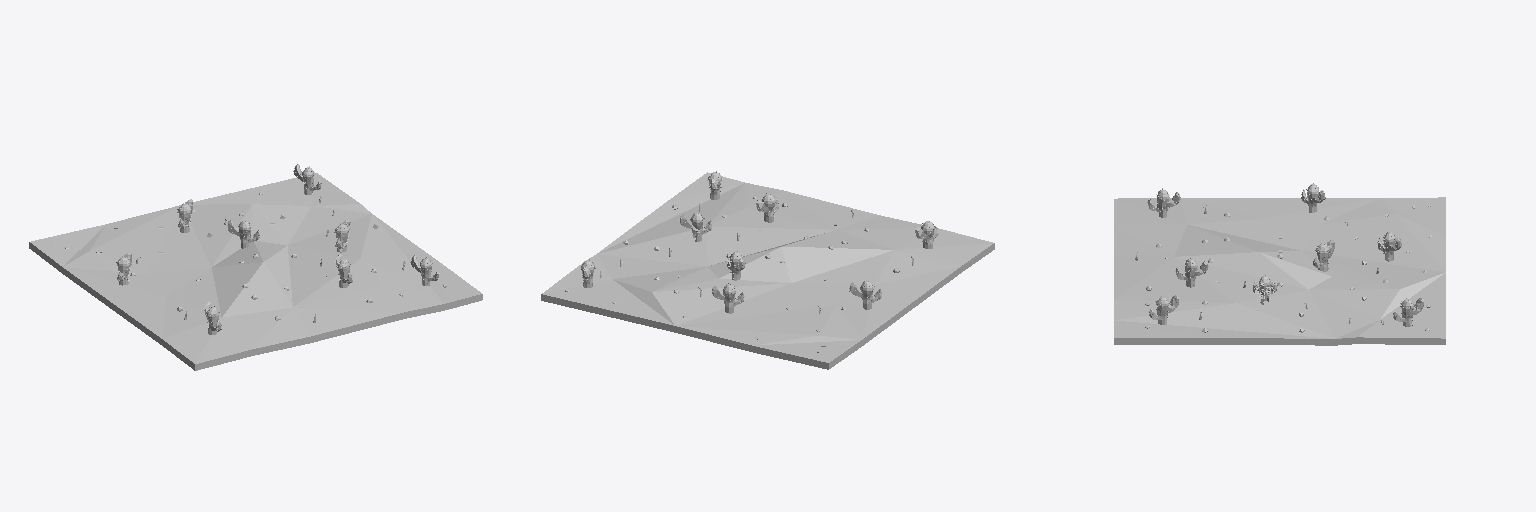
File: floor4.obj
3 views of the same model, side by side, from view 1: azimuth 30°, elevation 25°; view 2: azimuth 150°, elevation 25°; view 3: azimuth 270°, elevation 25° (orthographic).
Visible parts, largest first — view 1: desert.006; view 2: desert.006; view 3: desert.006.
Boxes of the visible parts, x1=… form: desert.006: x1=29, y1=164, x2=482, y2=370; desert.006: x1=541, y1=171, x2=994, y2=369; desert.006: x1=1114, y1=183, x2=1445, y2=345.
Size of the model in its own units: 10 by 1.32 by 10.